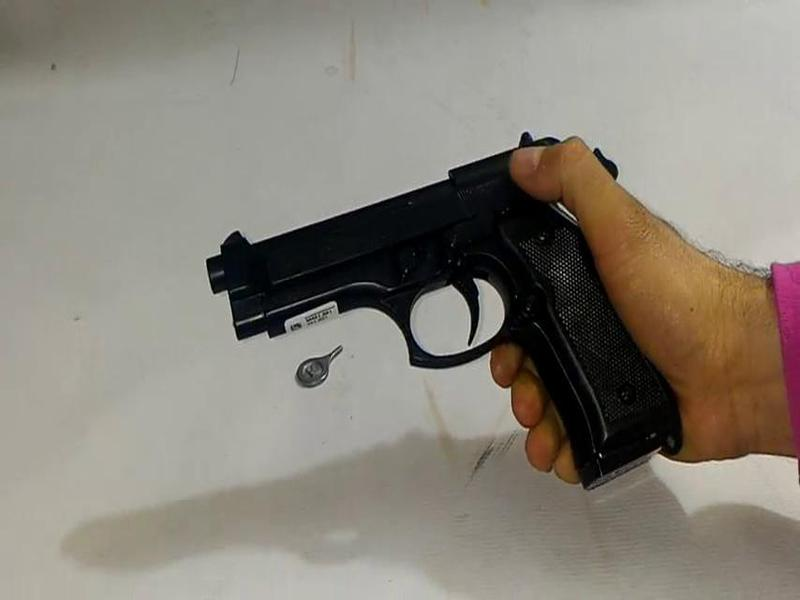Pistola: (193, 141, 677, 509)
